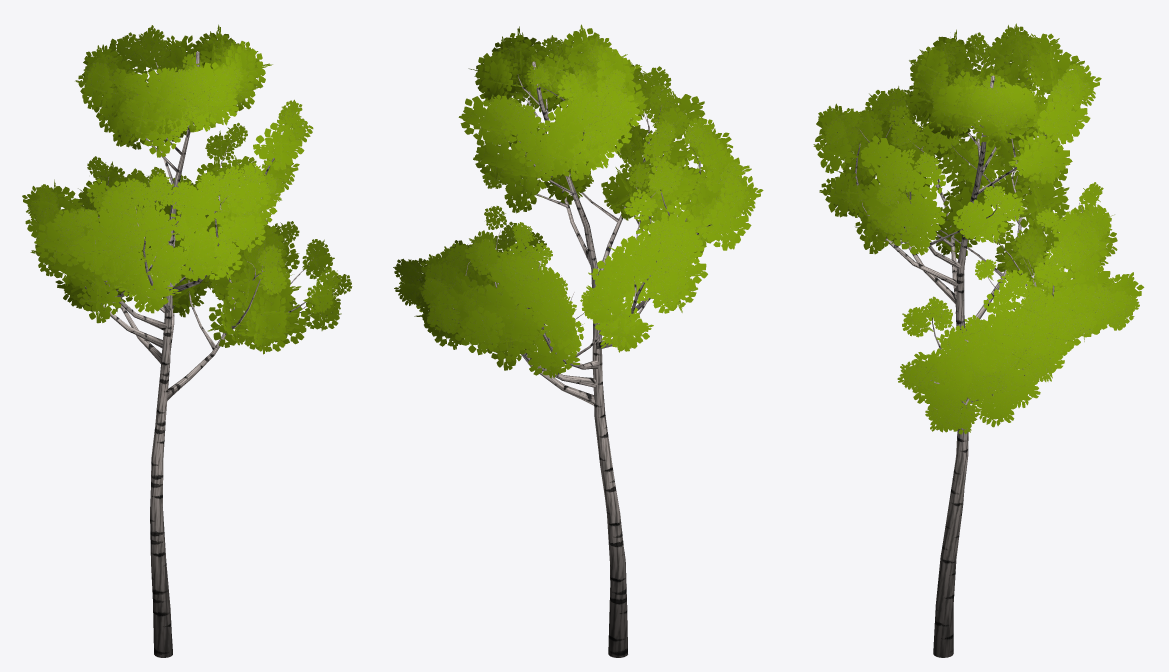
The model's file is tree-health-3-young.glb.
The picture shows the model from 3 angles, left to right: view 1: azimuth 30°, elevation 25°; view 2: azimuth 150°, elevation 25°; view 3: azimuth 270°, elevation 25°; orthographic projection. The views are drawn at different scales.
Visible parts, largest first — view 1: Birch_3; view 2: Birch_3; view 3: Birch_3.
Boxes of the visible parts, left/top/right/bottom form: Birch_3: left=22, top=24, right=352, bottom=657; Birch_3: left=393, top=24, right=763, bottom=657; Birch_3: left=813, top=23, right=1144, bottom=657.
Bounding box in the file's own units: 1.43 × 2.4 × 1.21.
Materials: 2 (2 with a texture image).
